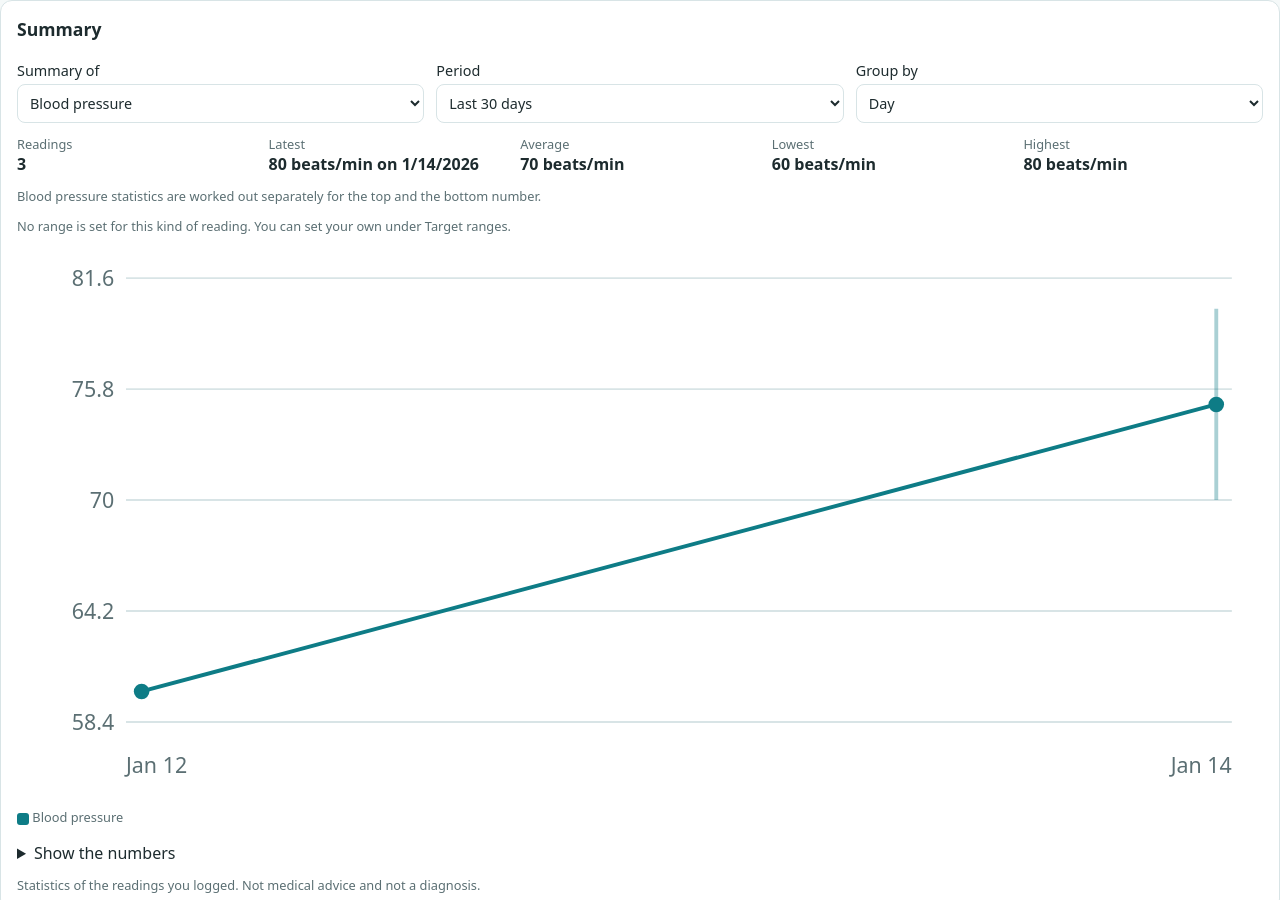
Test case: SummaryPanel › shows the statistics and the chart
The width and height of the screenshot is (1280, 900).
Expected: the text "Readings" is shown, [17,135,72,153]
Select "Heart rate" in the dropdown labelled "Summary of" at (221, 104), box [17,84,424,123]
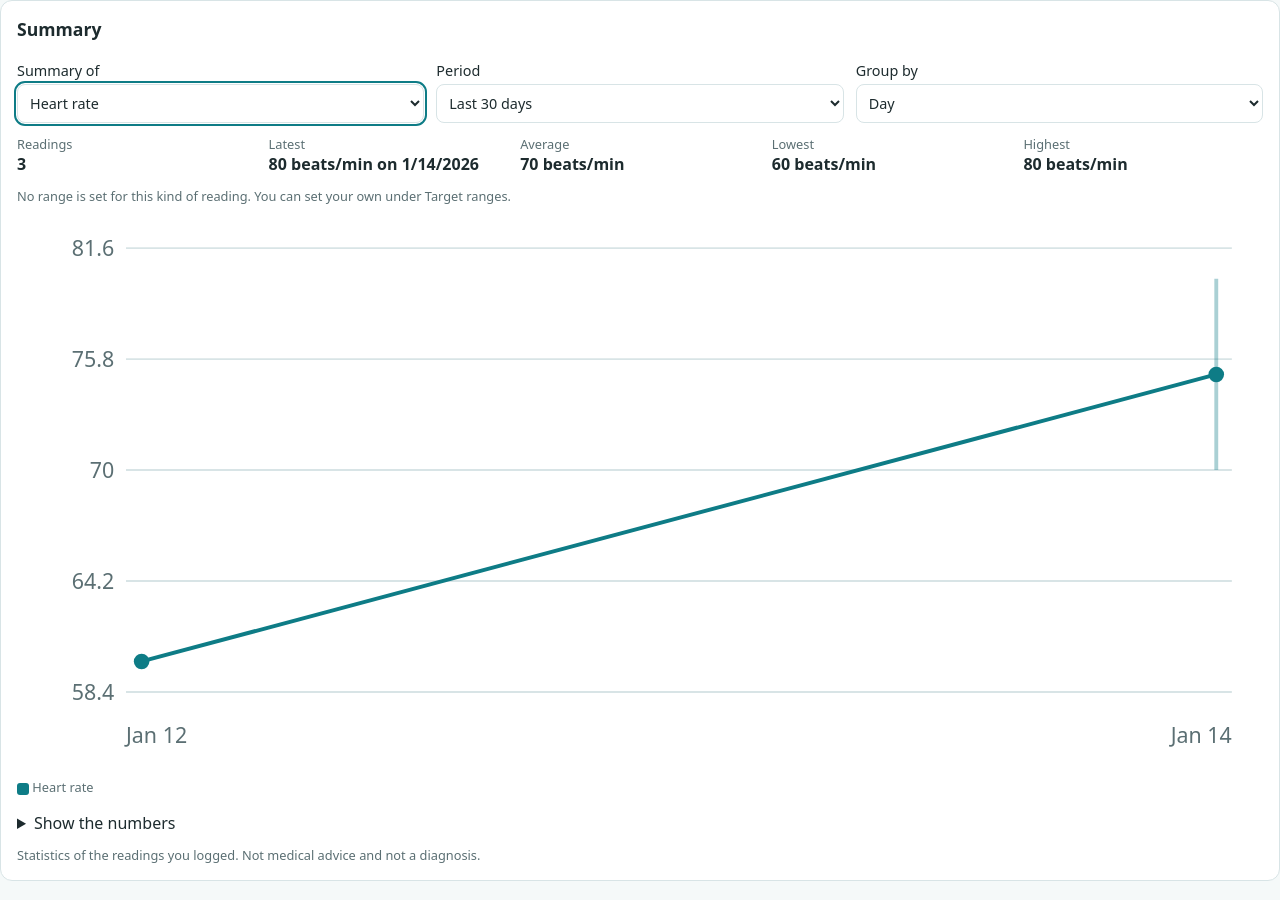
Expected: the text "3" is shown, [17,153,26,175]
Expected: the picture named "average heart rate per day" is shown, [17,217,1263,762]
